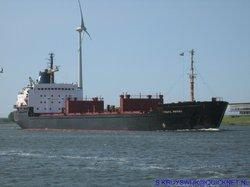Cargoship: (6, 1, 231, 134)
